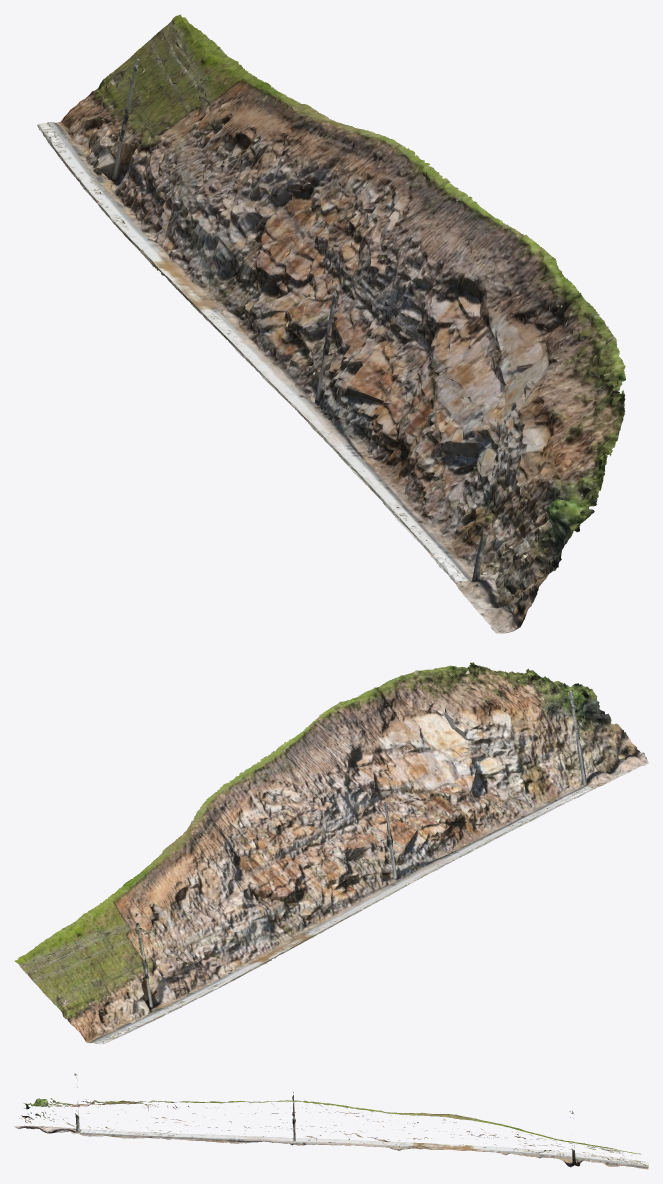
The picture shows the model from 3 angles, top to bottom: view 1: azimuth 30°, elevation 25°; view 2: azimuth 150°, elevation 25°; view 3: azimuth 270°, elevation 25°; orthographic projection. The views are drawn at different scales.
Bounding box in the file's own units: 29.32 × 15.91 × 106.
Materials: 1 (1 with a texture image).
